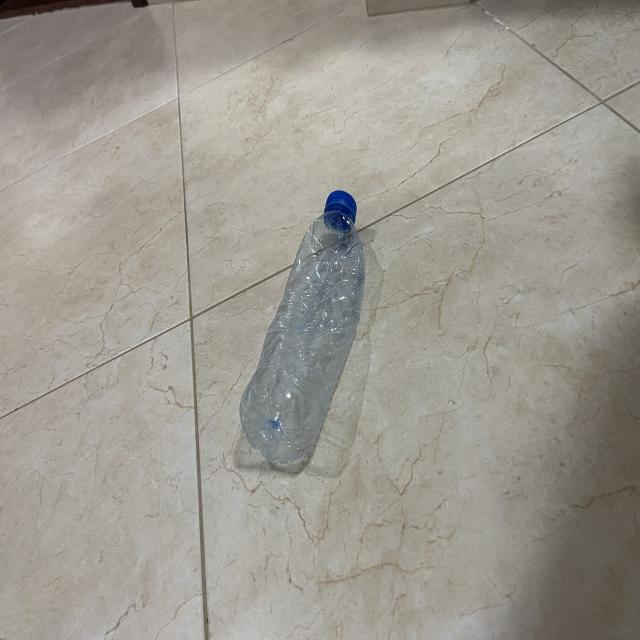plastic bottle: (237, 183, 373, 469)
